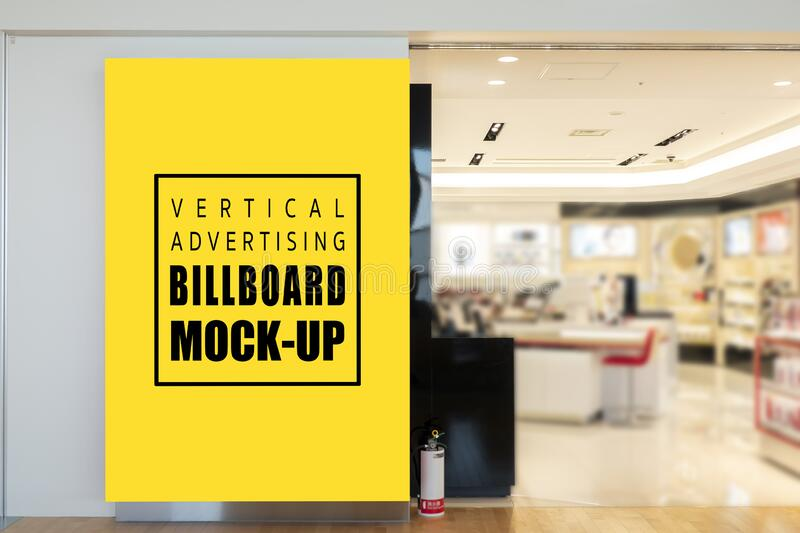fire_extinguisher: (415, 427, 448, 517)
